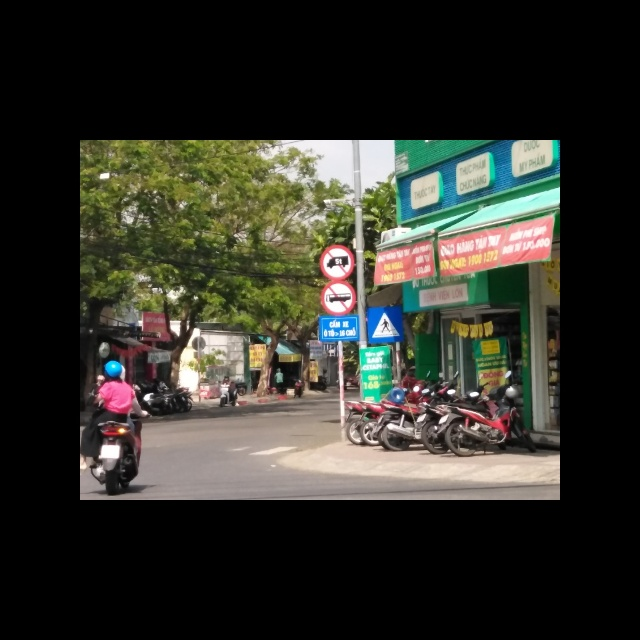Cấm xe tải: (318, 245, 355, 281)
Cấm xe xe khách: (320, 280, 357, 317)
Đường dành cho người đi bộ: (367, 307, 403, 344)
